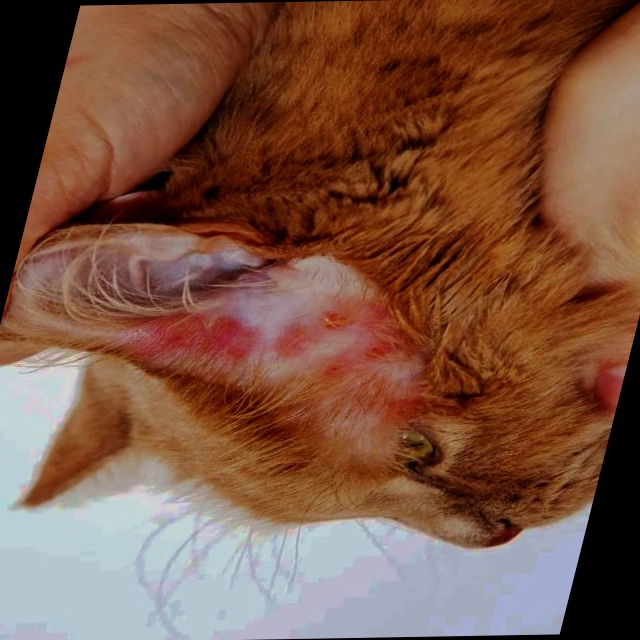ringworm: (154, 305, 441, 429)
